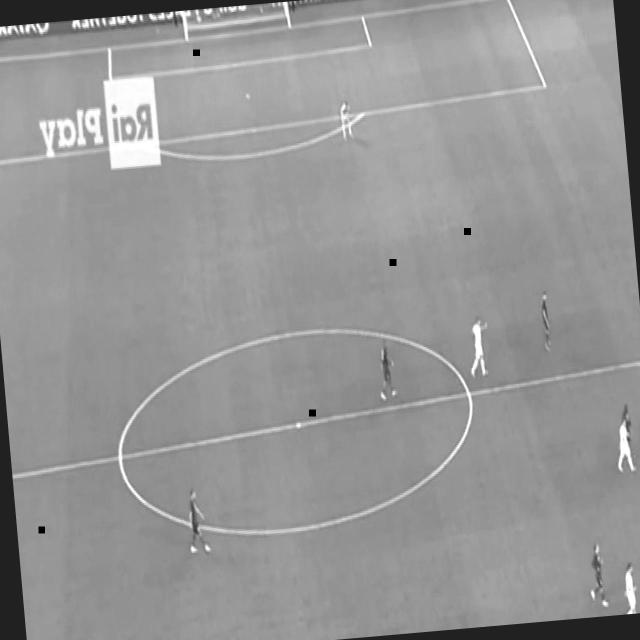player-white: (182, 484, 214, 562), (584, 539, 614, 615), (464, 313, 496, 382), (373, 334, 401, 407), (612, 415, 638, 479), (616, 556, 640, 614), (618, 397, 638, 461), (538, 290, 556, 358), (337, 94, 357, 145)
